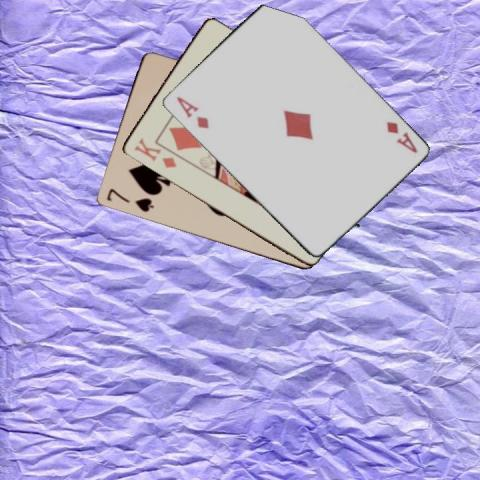7s: (103, 185, 155, 214)
Ad: (173, 93, 210, 130), (382, 118, 418, 155)
Kd: (131, 135, 177, 170)
